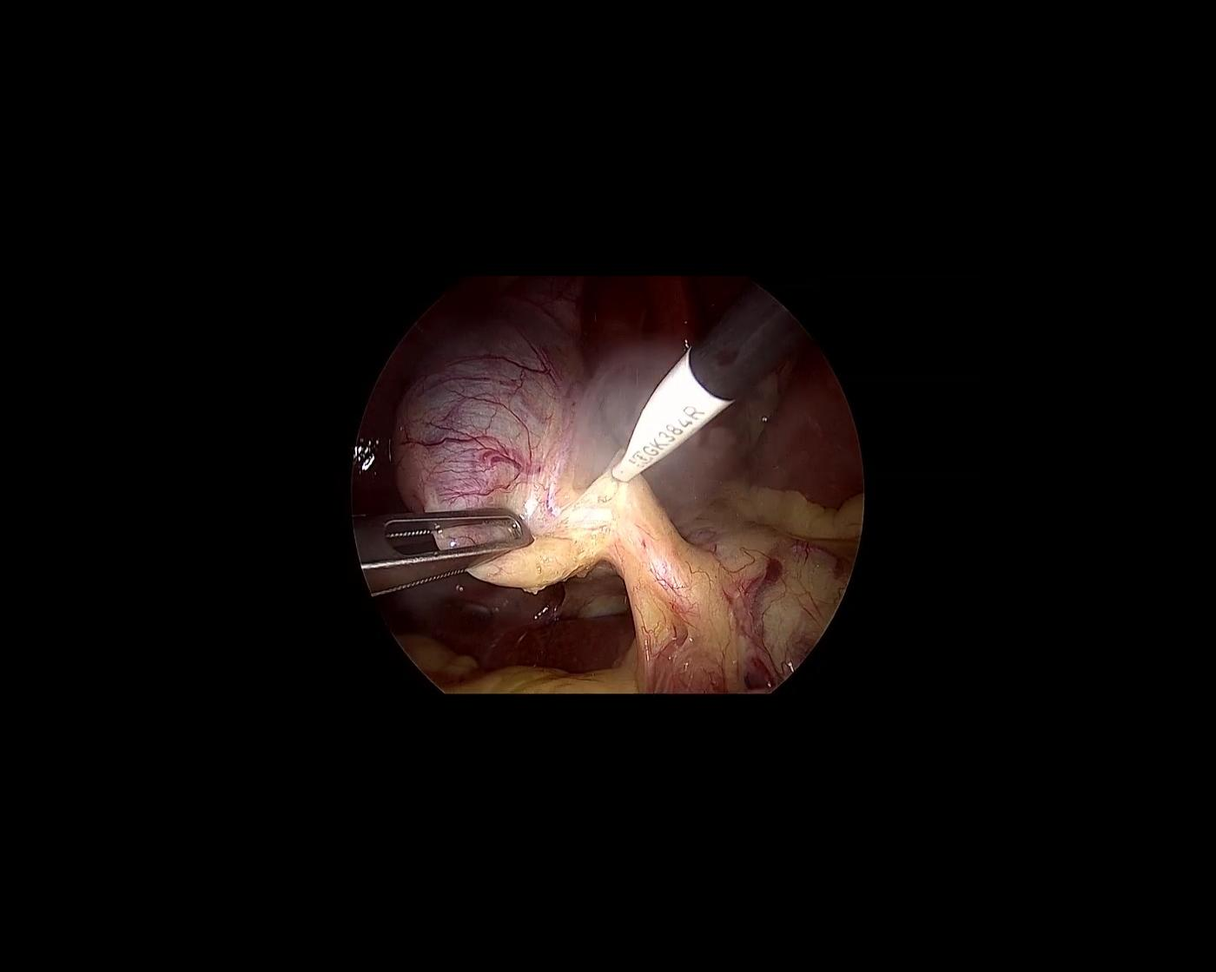Cautery: (585, 283, 815, 513)
Forceps: (347, 466, 540, 599)
Gallbladder: (387, 273, 589, 585)
